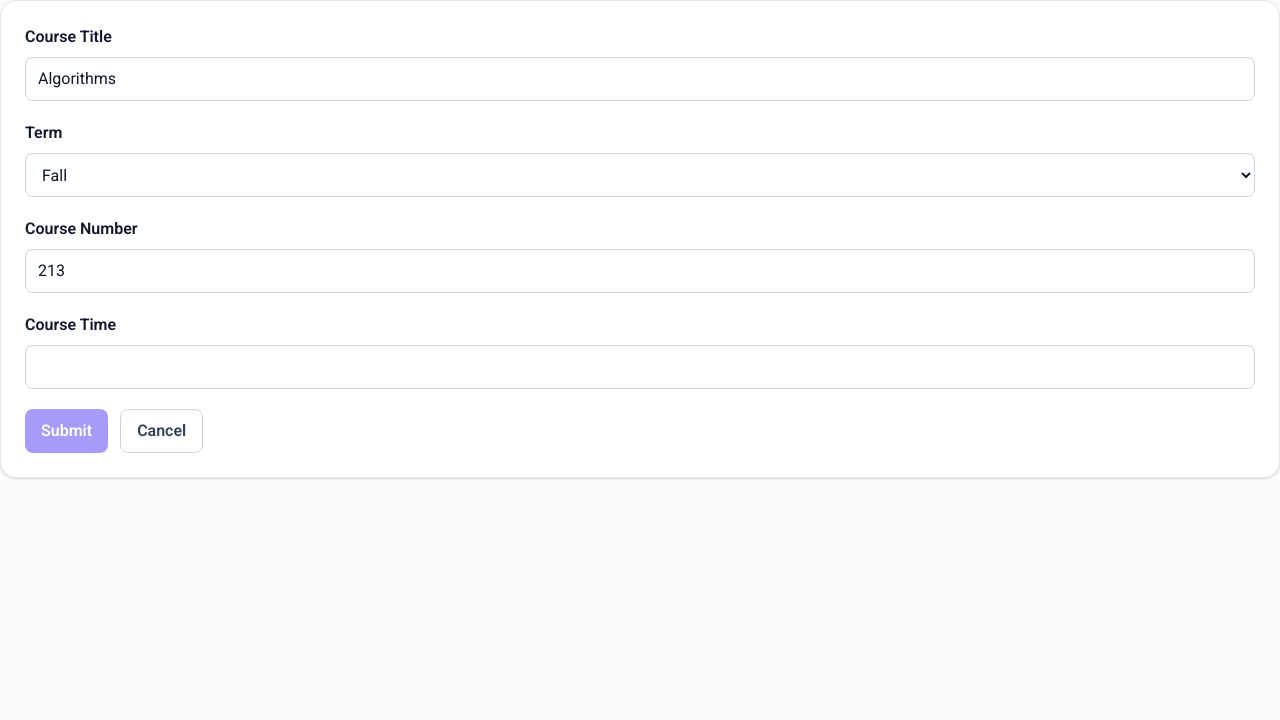
Test: CoursesForm › shows a helpful meeting-time error while the field is edited
In the field labelled "Course Time": point(640, 367) [25, 345, 1255, 389], type "MWF"
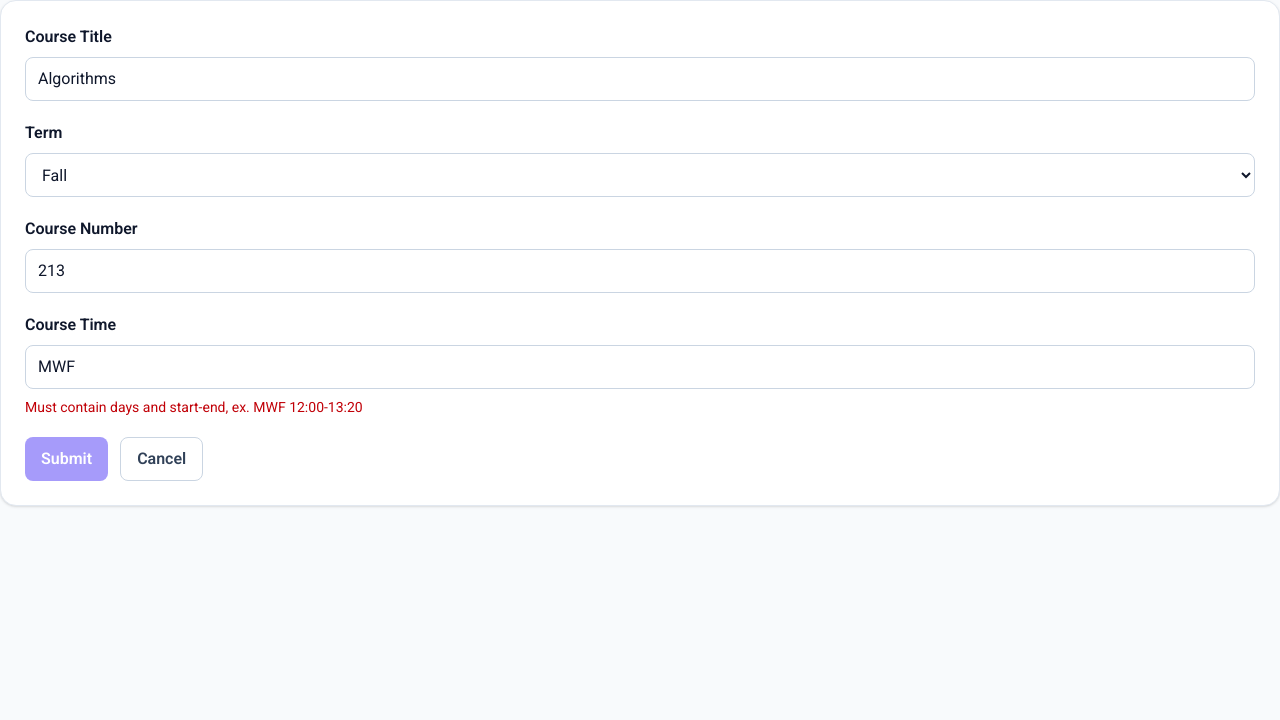
Result: the text "Must contain days and start-end, ex. MWF 12:00-13:20" is shown at [25, 399, 363, 415]
